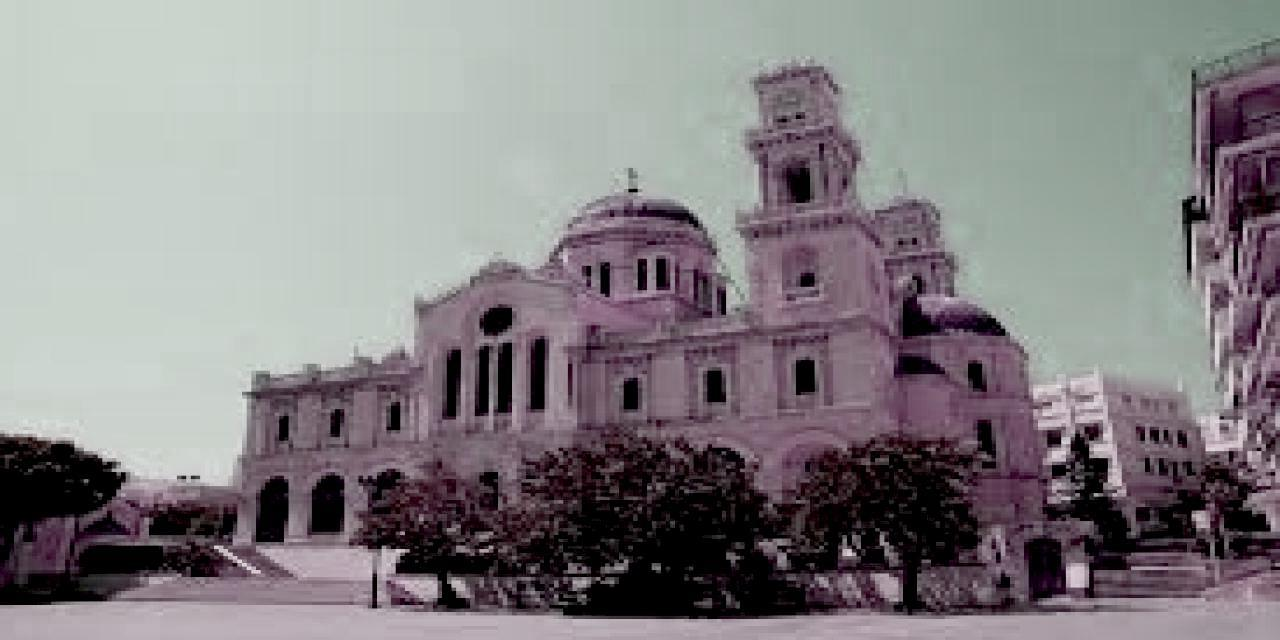Agios Minas: (223, 69, 1051, 585)
